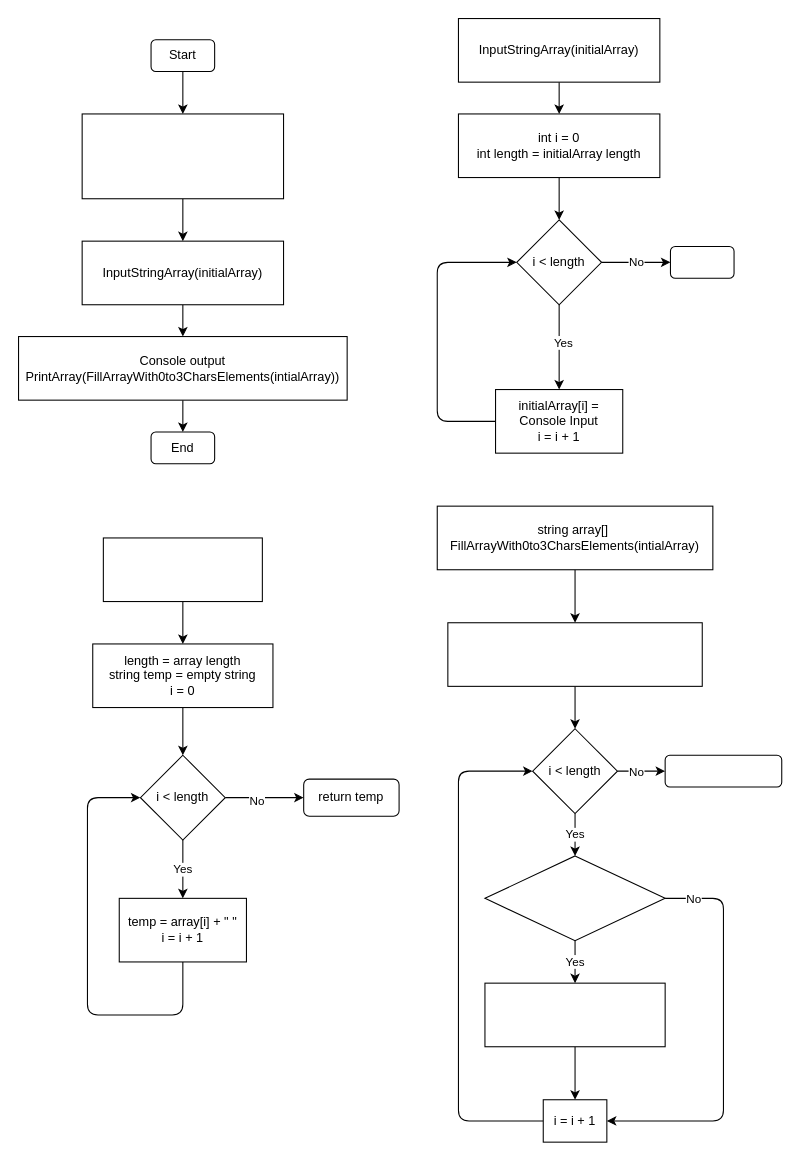
Image size: 800x1161. Some labels were removed from this diagram. Here are the shapes that lost their labels. From the top down, the centre of each, then its label:
At (182,156): "input arrayLength initialArray = new string array [arrayLength]".
At (701,261): "Return".
At (182,569): "string PrintArray(array[])".
At (574,654): "length = intialArray length tempArray = new string array [0] int i = 0 int j = 0".
At (723,770): "Return tempArray".
At (574,898): "initialArray[i] length <= 3".
At (574,1014): "tempArray[j] = initialArray[i] j = j + 1".
